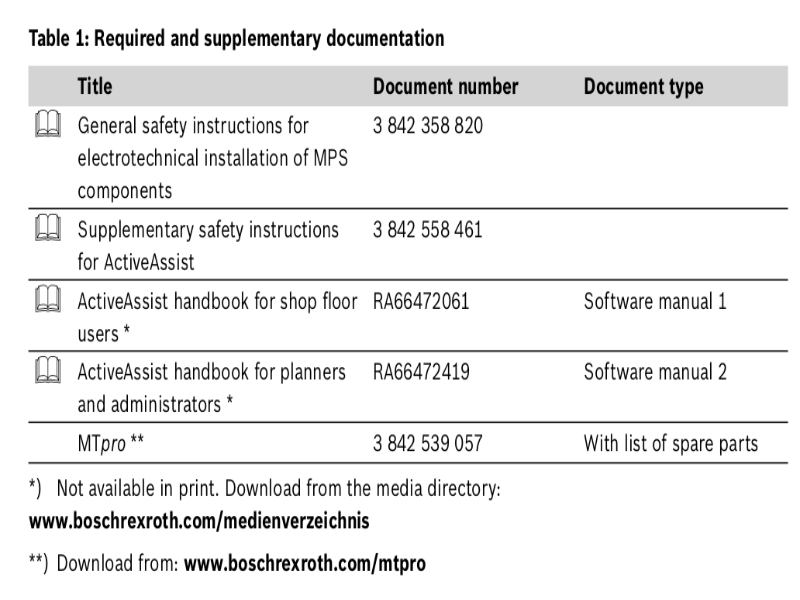borderless: (22, 59, 796, 470)
cell: (70, 110, 350, 203), (69, 287, 359, 345), (69, 356, 359, 414), (70, 215, 349, 274), (582, 427, 766, 457), (366, 72, 527, 98), (582, 287, 731, 315), (583, 357, 732, 385), (579, 70, 711, 101), (368, 429, 485, 459), (67, 424, 161, 458), (368, 111, 487, 137), (369, 287, 474, 316), (369, 359, 472, 386), (368, 218, 485, 241), (70, 71, 124, 98)
